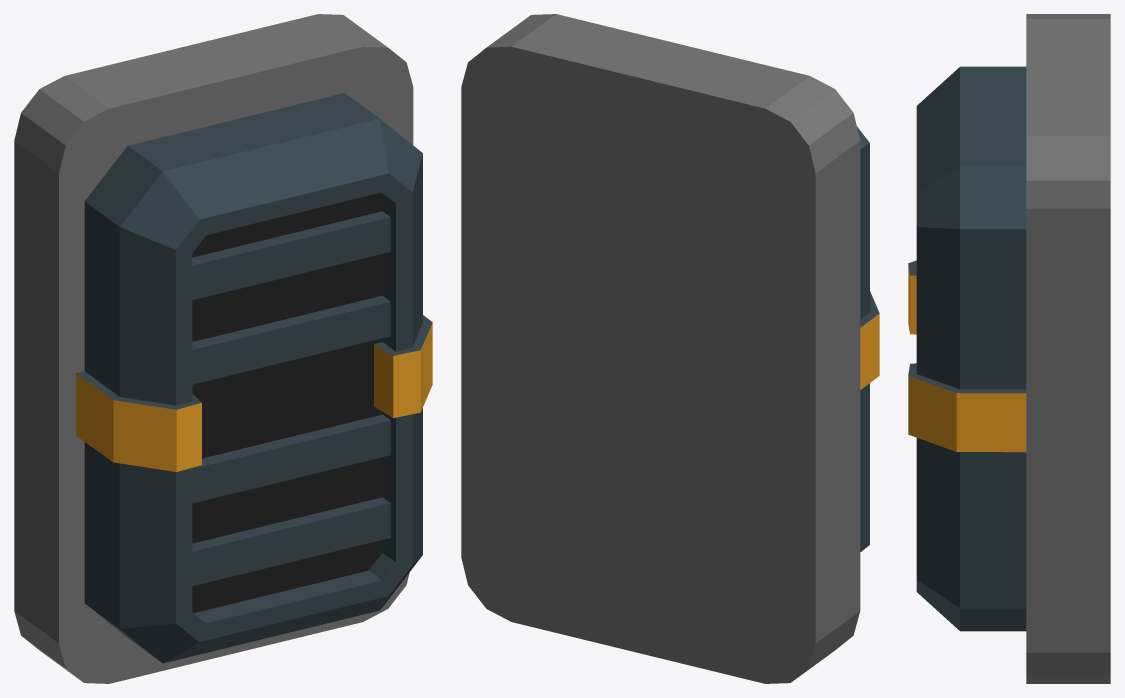
File: Fusil box.fbx
The picture shows the model from 3 angles, left to right: view 1: azimuth 30°, elevation 25°; view 2: azimuth 150°, elevation 25°; view 3: azimuth 270°, elevation 25°; orthographic projection. The views are drawn at different scales.
Visible parts, largest first — view 1: Cube.078; view 2: Cube.078; view 3: Cube.078.
Part boxes in pixels (x1,y1,x2,y2): Cube.078: (14, 14, 432, 683); Cube.078: (461, 14, 879, 683); Cube.078: (908, 14, 1110, 683).
Bounding box in the file's own units: 0.3945 × 0.612 × 0.2069.
